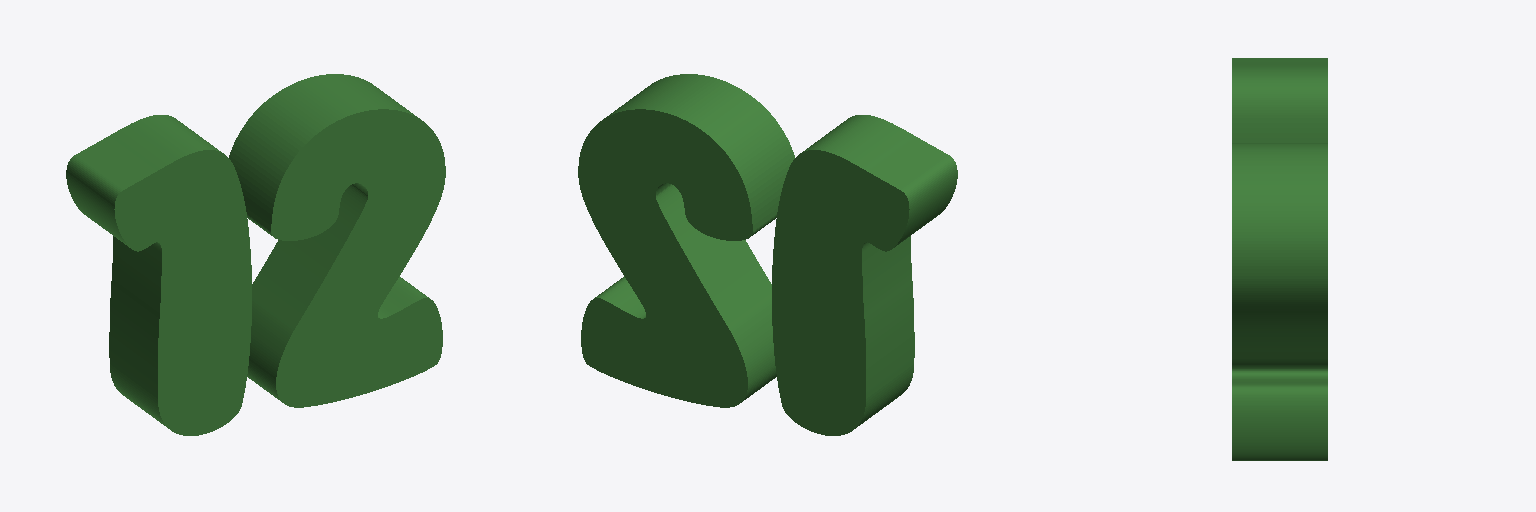
Rendered from Number12.obj.
3 views of the same model, side by side, from view 1: azimuth 30°, elevation 25°; view 2: azimuth 150°, elevation 25°; view 3: azimuth 270°, elevation 25° (orthographic).
Parts seen in each view (by area): view 1: Text; view 2: Text; view 3: Text.
Boxes of the visible parts, x1,y1,x2,y2 form: Text: [66, 74, 445, 435]; Text: [578, 74, 957, 435]; Text: [1232, 58, 1327, 460].
Bounding box in the file's own units: 0.7141 × 0.5856 × 0.18.